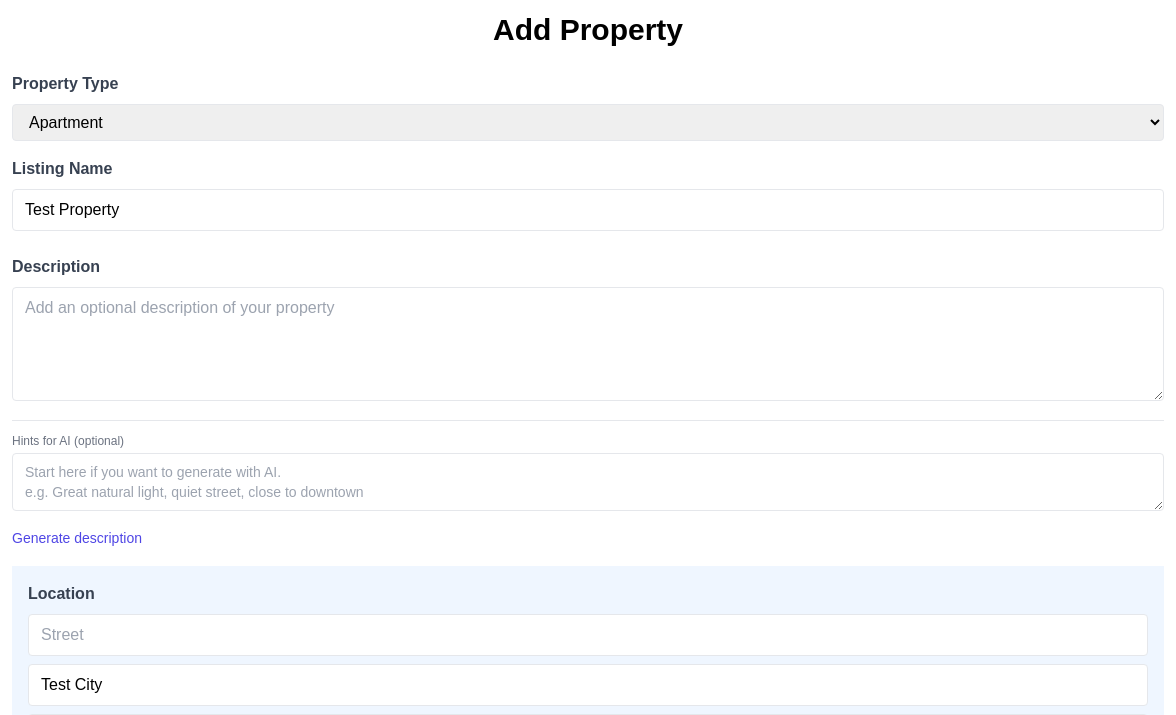
Test: PropertyAddForm — AI generate description › disables the button and sets aria-busy while generation is in progress
Click the button "Generate description" at {"x": 77, "y": 538}, box [12, 528, 142, 548]
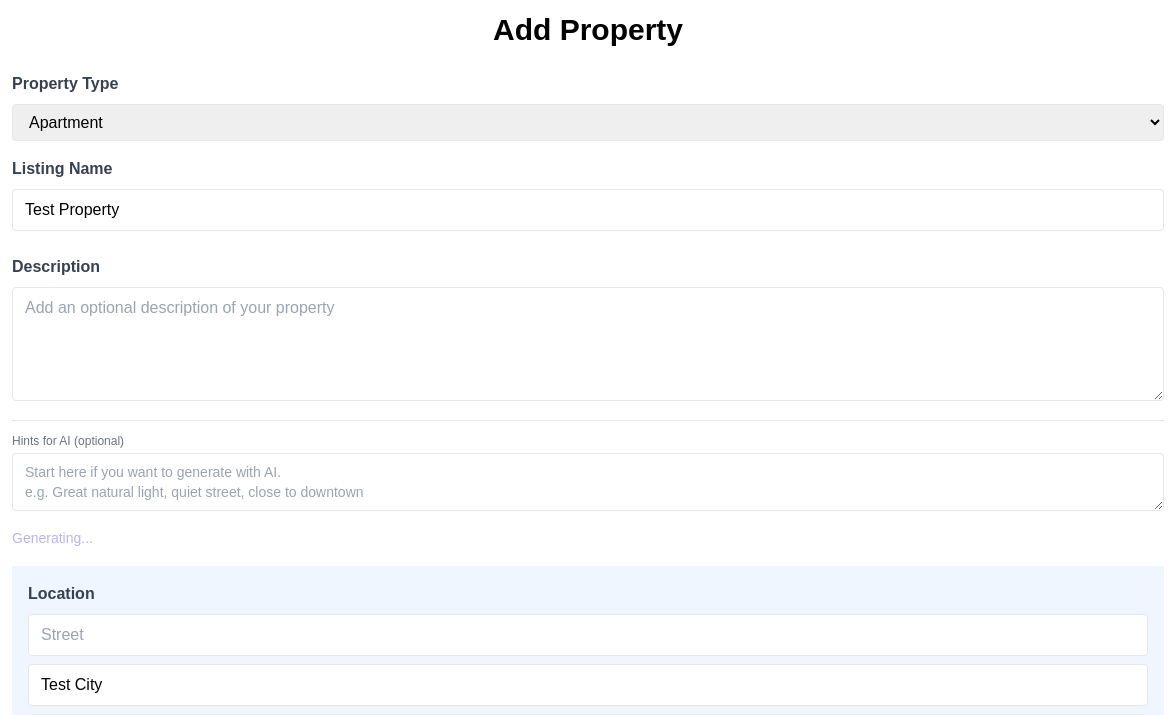
Now the button "Generating..." is disabled, box [12, 528, 93, 548]
